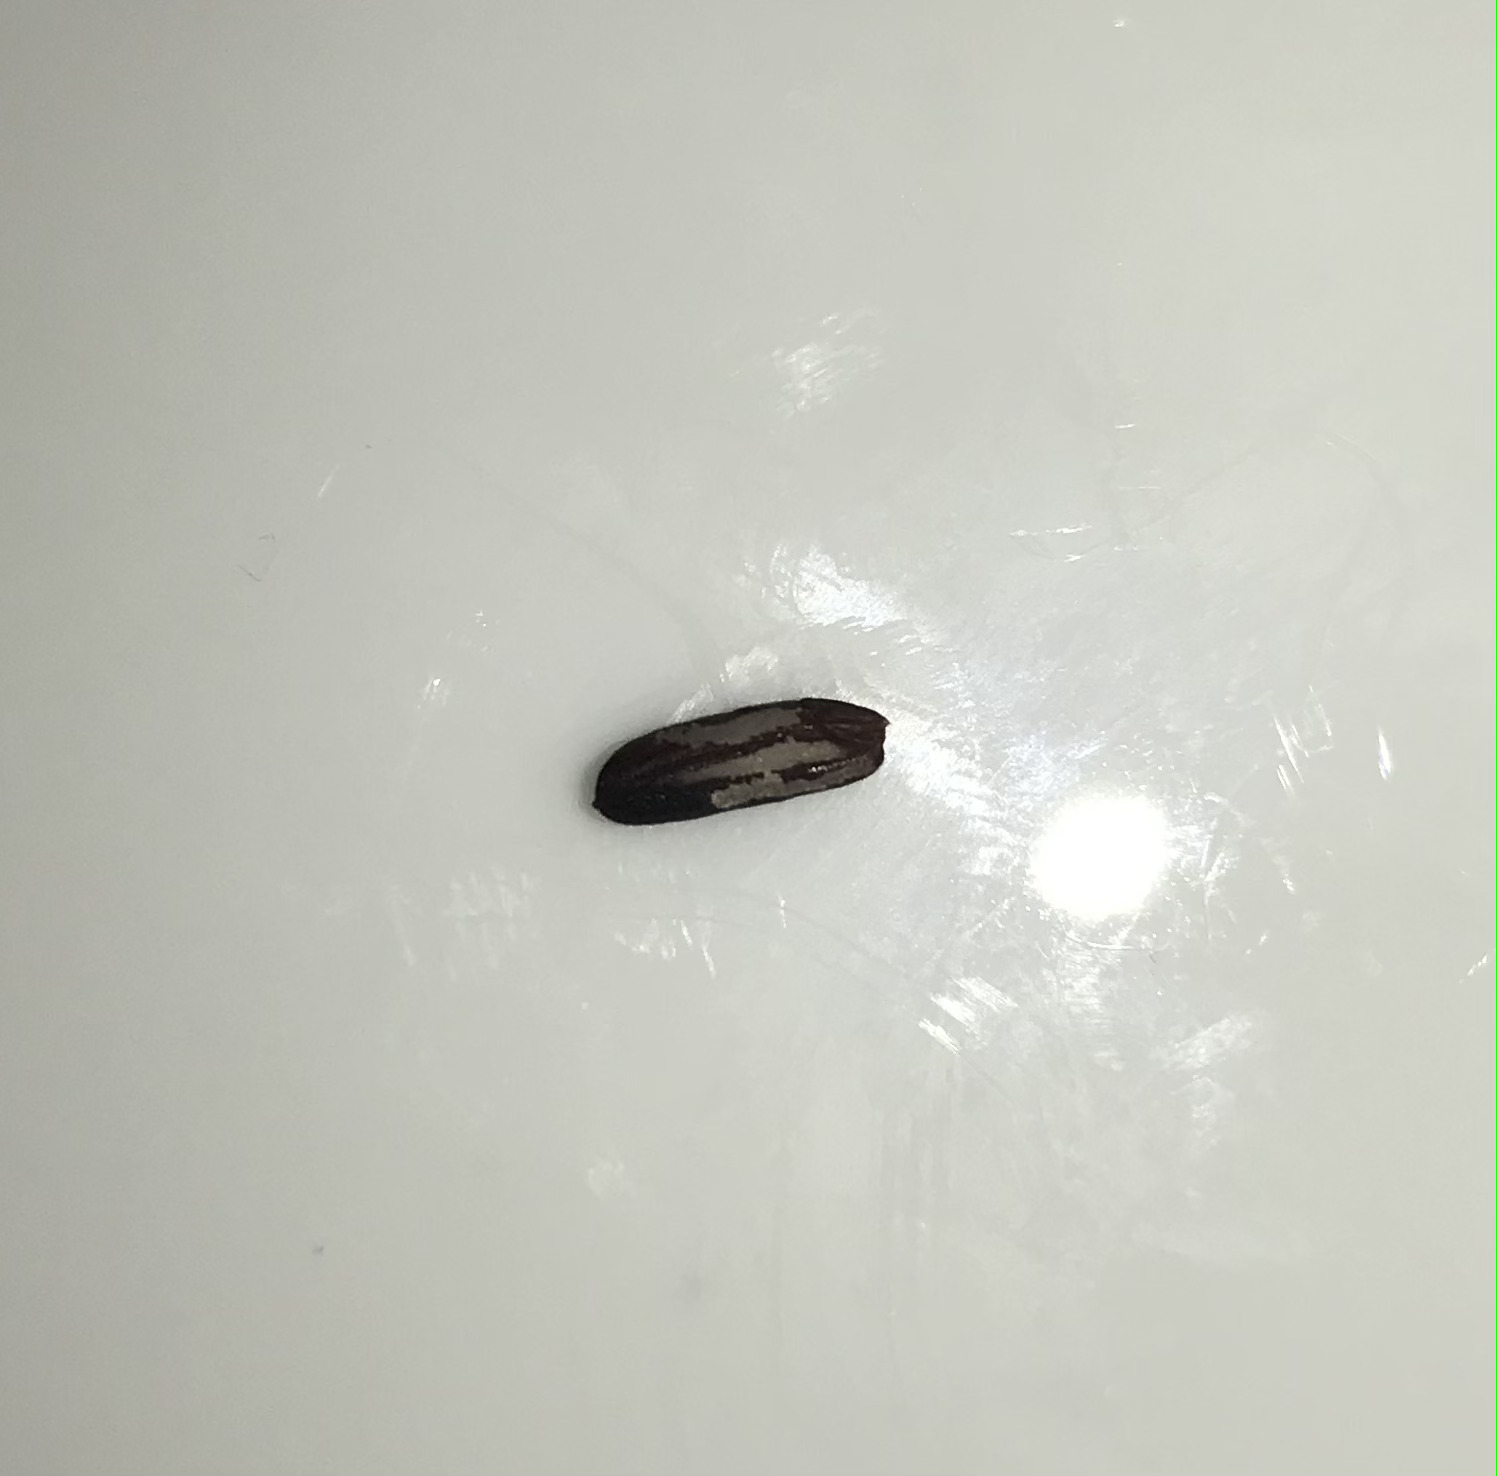Gao lut: (576, 696, 892, 830)
